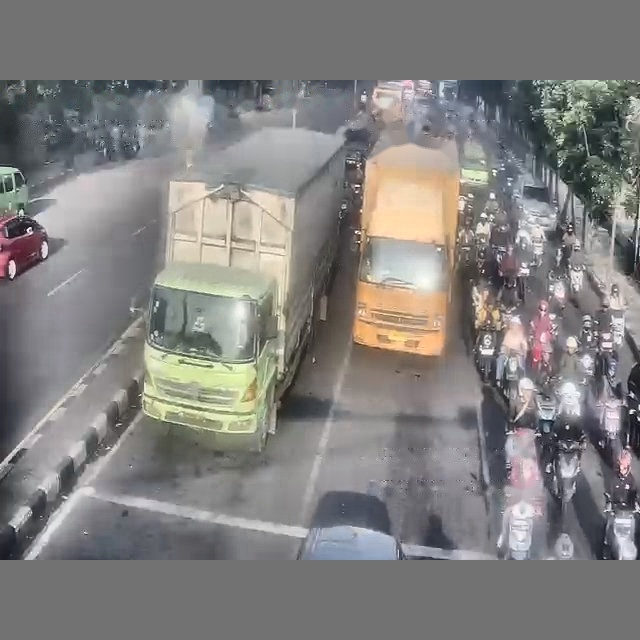Mobil: (297, 491, 406, 559), (0, 216, 49, 279), (516, 179, 556, 231), (0, 166, 28, 214)
Motor: (602, 493, 637, 559), (476, 326, 497, 383), (611, 310, 624, 346), (570, 265, 583, 296)
Truk: (142, 127, 344, 452), (352, 126, 458, 355)
